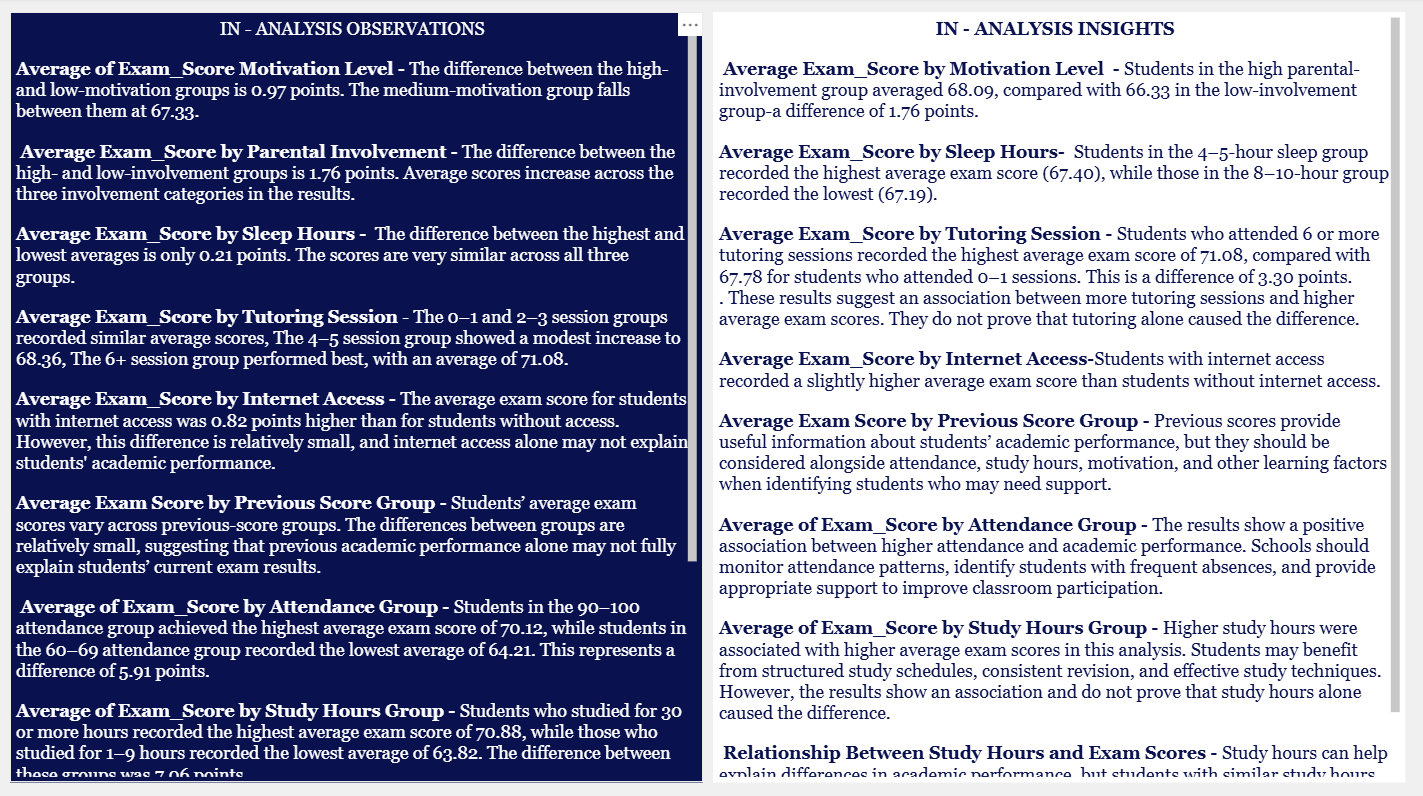

Layout of this report page (visuals, bound fields, positions):
{"tool":"powerbi","page":{"name":"In-Analysis","canvas":[1280,720],"ordinal":3},"visuals":[{"type":"textbox","box":[0,0,1280,720],"z":0},{"type":"textbox","box":[14.6,12.6,620,689.6],"z":1000},{"type":"textbox","box":[643.9,12.6,620,689.6],"z":2000}]}

Visuals, with their boxes in screenshot pixels (x1, y1, x2, y2), scaled from the page's 1280x720 canvas onto the 1423x796 screenshot:
textbox: 0:0:1422:795
textbox: 16:14:705:776
textbox: 716:14:1405:776
